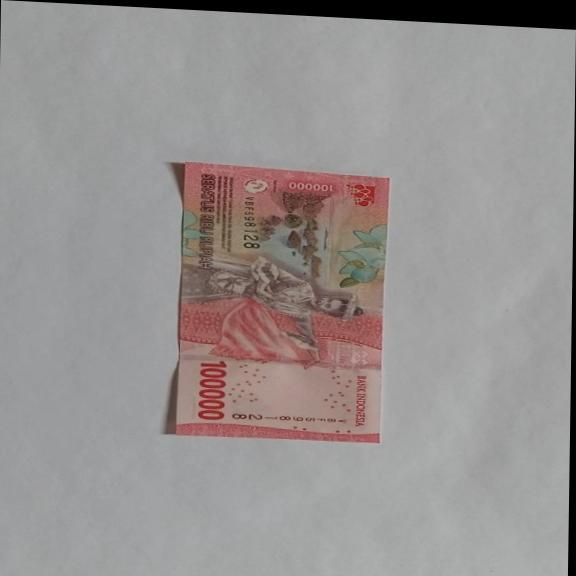Kertas: (170, 161, 390, 446), (195, 359, 229, 422)
